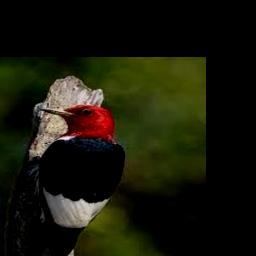Woodpecker: (25, 105, 128, 256)
